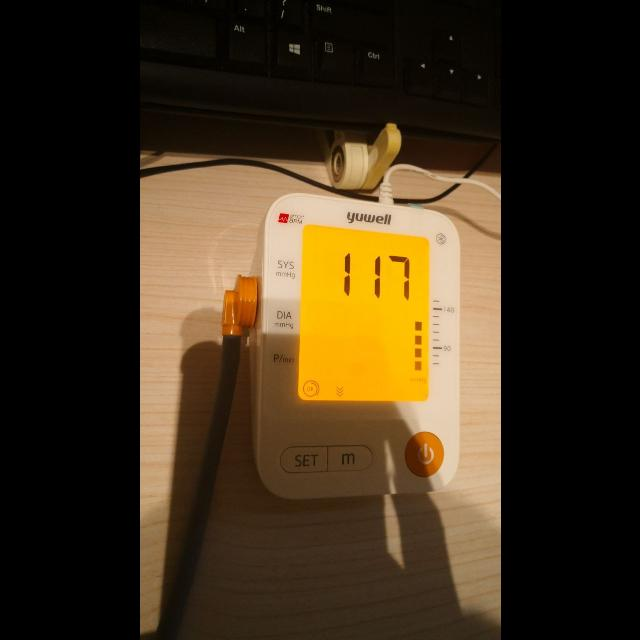Blood-Pressure-Monitor: (252, 191, 460, 497)
